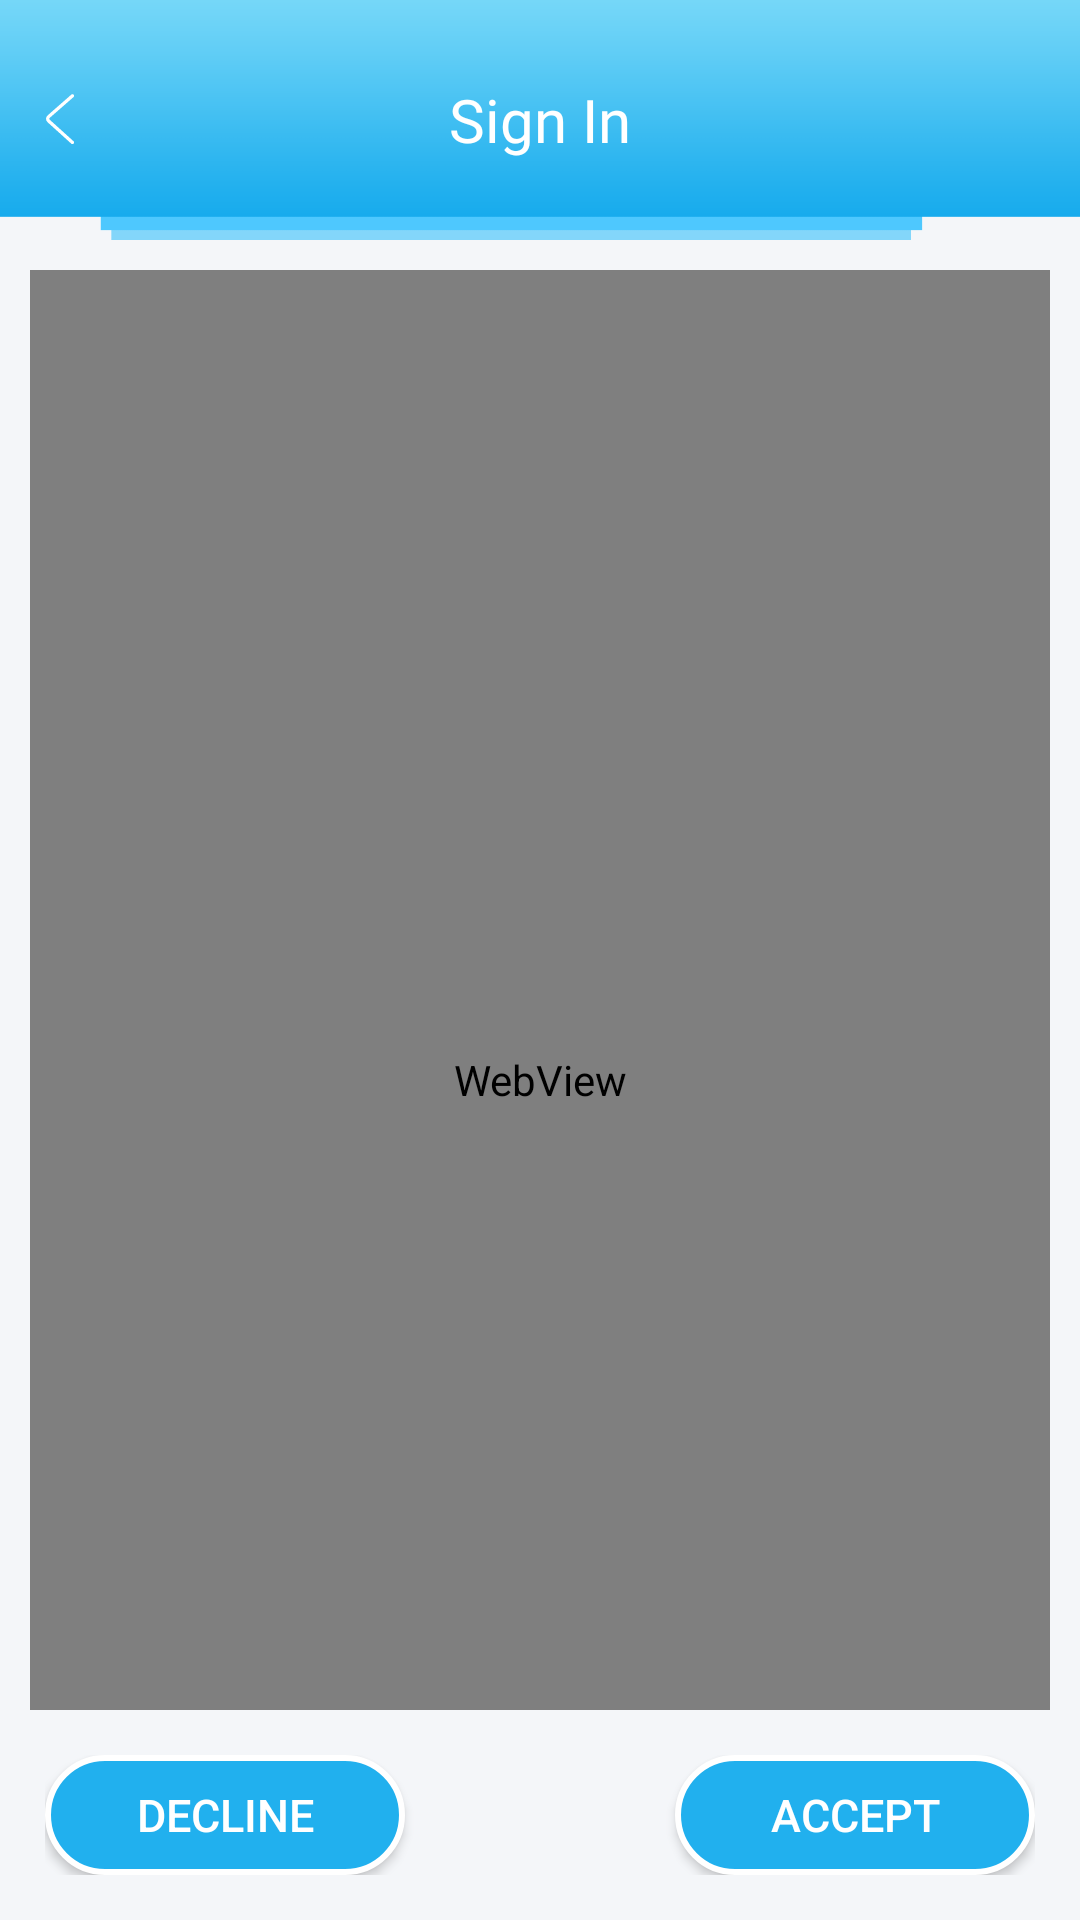

Named icons in this screenshot (1080 x 1920) and their bounding boxes, bbox=[x1, y1, x2, y2]:
back: bbox=[30, 94, 90, 150]
